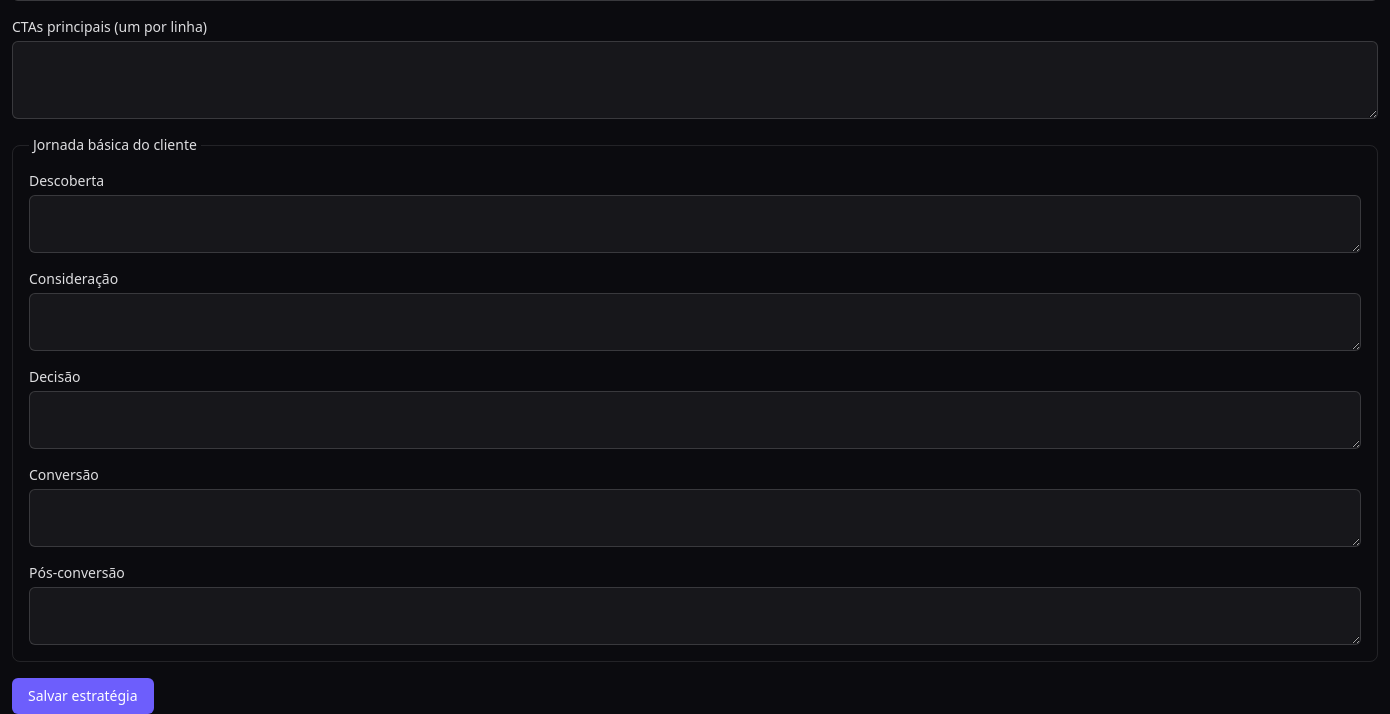
Test: StrategyForm › shows a pending state while the action is running
The image size is (1390, 714).
(page scrolled)
Click the button "Salvar estratégia" at coordinates (83, 696), box [12, 678, 154, 713]
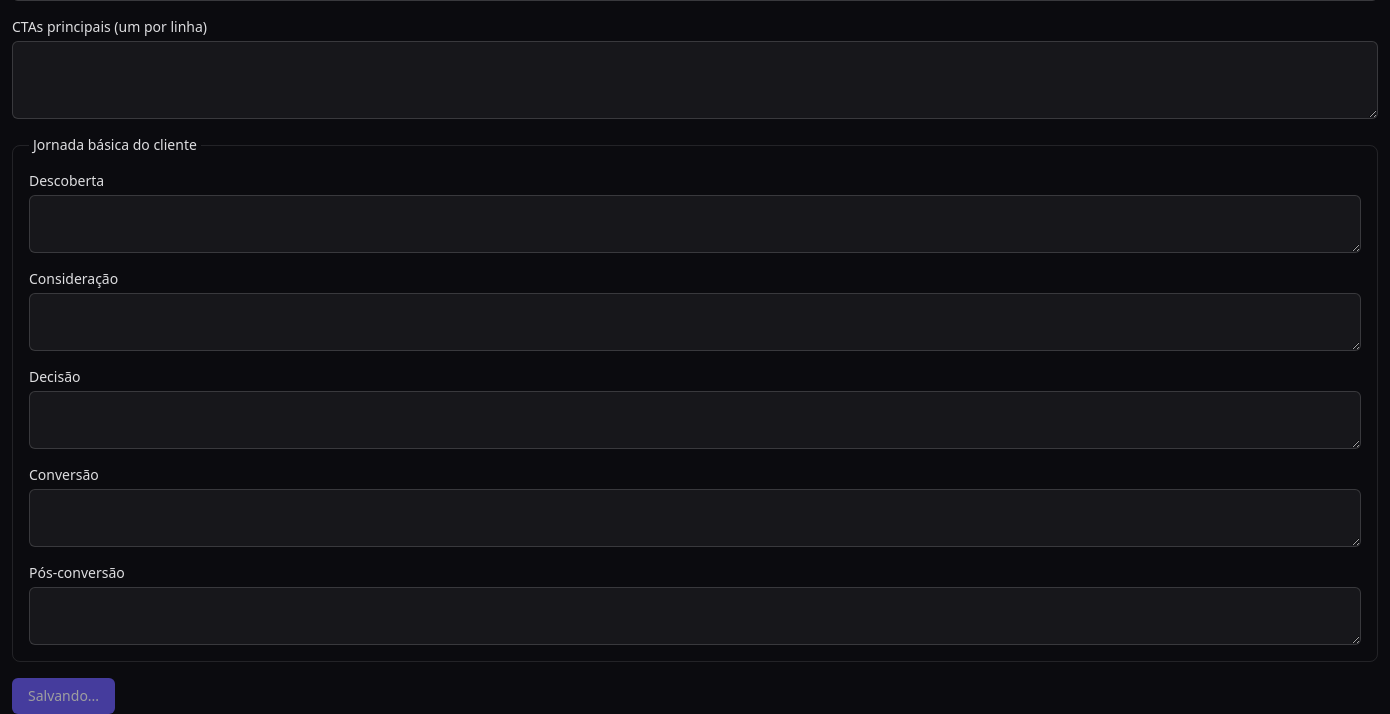
Result: the button "Salvando..." is disabled at [12, 678, 115, 713]
